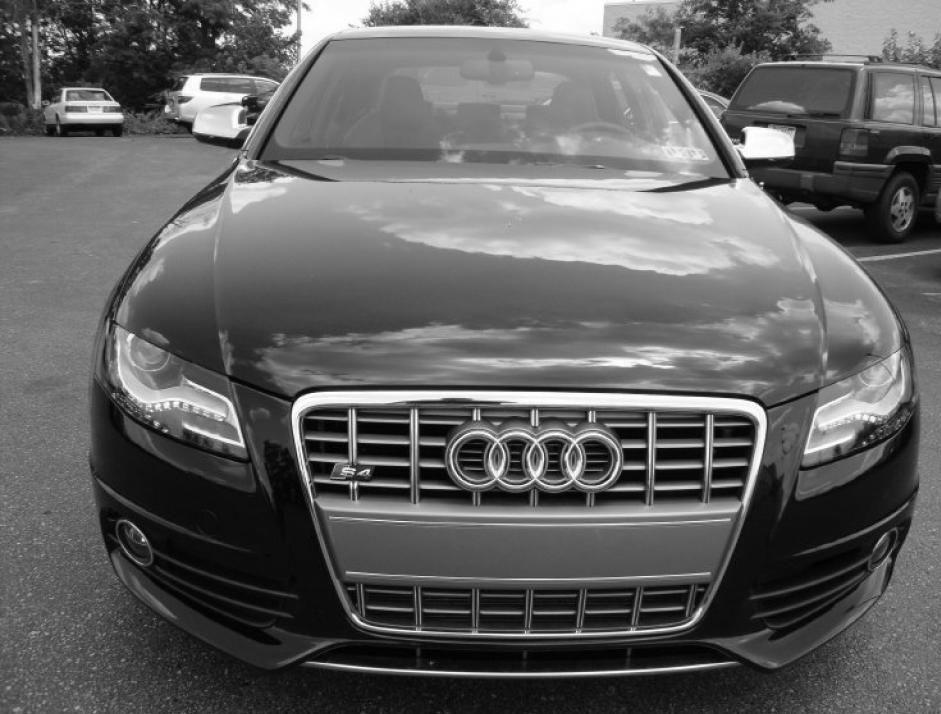car: (90, 31, 922, 699)
